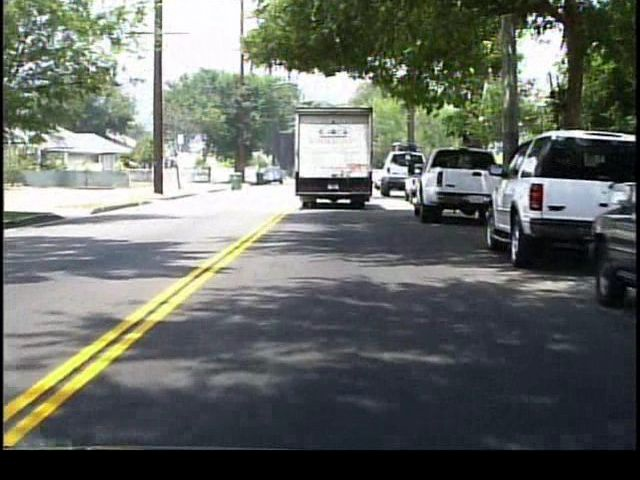person: (206, 162, 215, 183)
